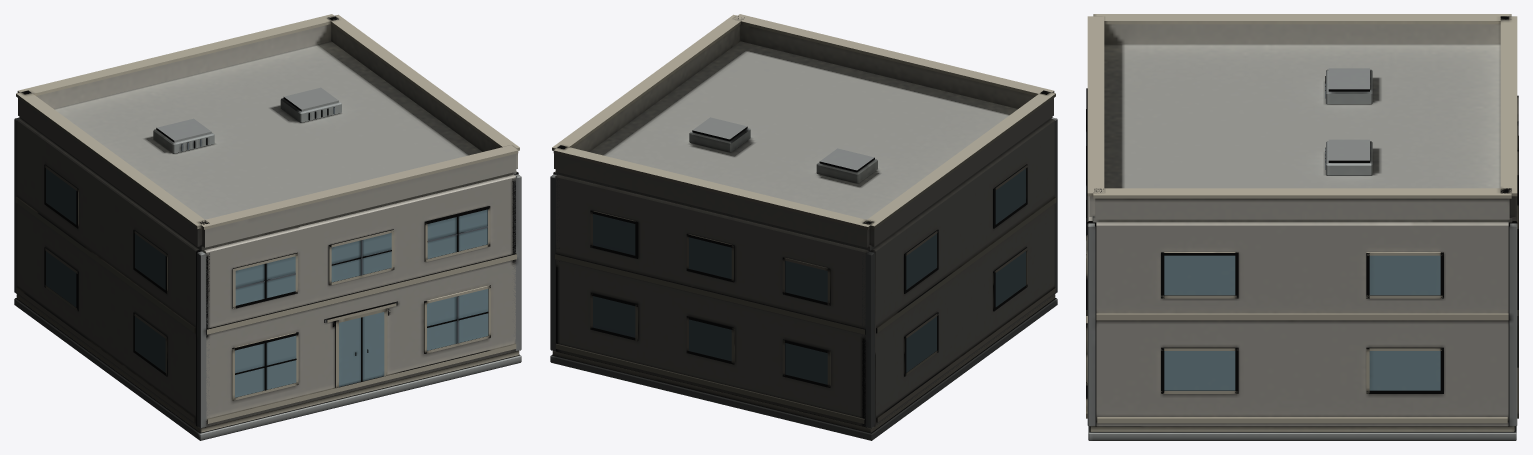
Rendered from 0-20261016-1900-ev064-r12-town-lotmedium_baked.glb.
3 renders of one model, left to right at view 1: azimuth 30°, elevation 25°; view 2: azimuth 150°, elevation 25°; view 3: azimuth 270°, elevation 25°, orthographic. The views are drawn at different scales.
Visible parts, largest first — view 1: SW_Town_LotMedium; view 2: SW_Town_LotMedium; view 3: SW_Town_LotMedium.
Part boxes in pixels (bbox=[...]): SW_Town_LotMedium: bbox=[14, 14, 521, 440]; SW_Town_LotMedium: bbox=[550, 14, 1057, 440]; SW_Town_LotMedium: bbox=[1086, 14, 1518, 440].
Size of the model in its own units: 12.02 by 7.54 by 12.02.
Materials: 1 (1 with a texture image).
